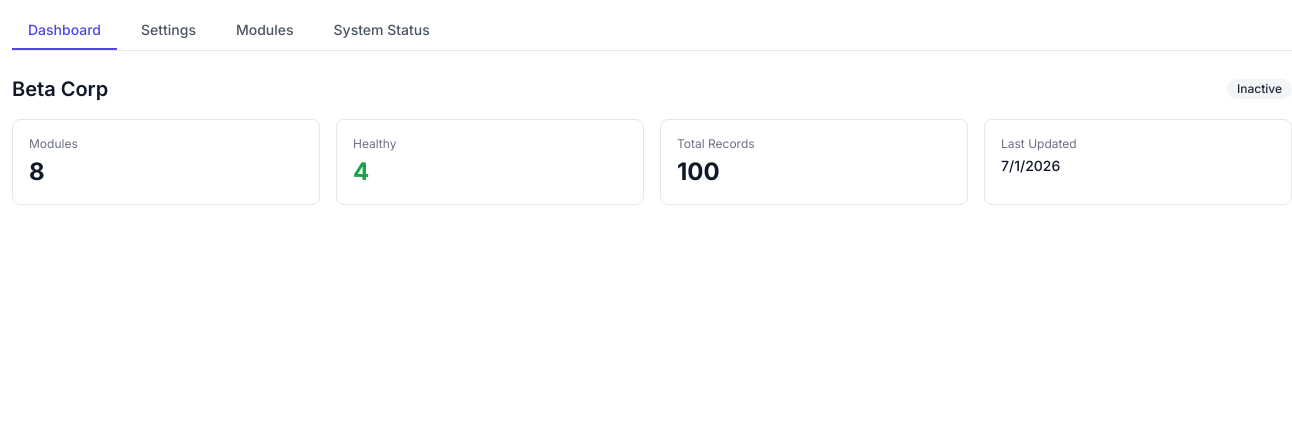
AdminCenter additional › modules tab shows module count heading
Click the button with test id "tab-modules": (265, 31) [220, 12, 310, 50]
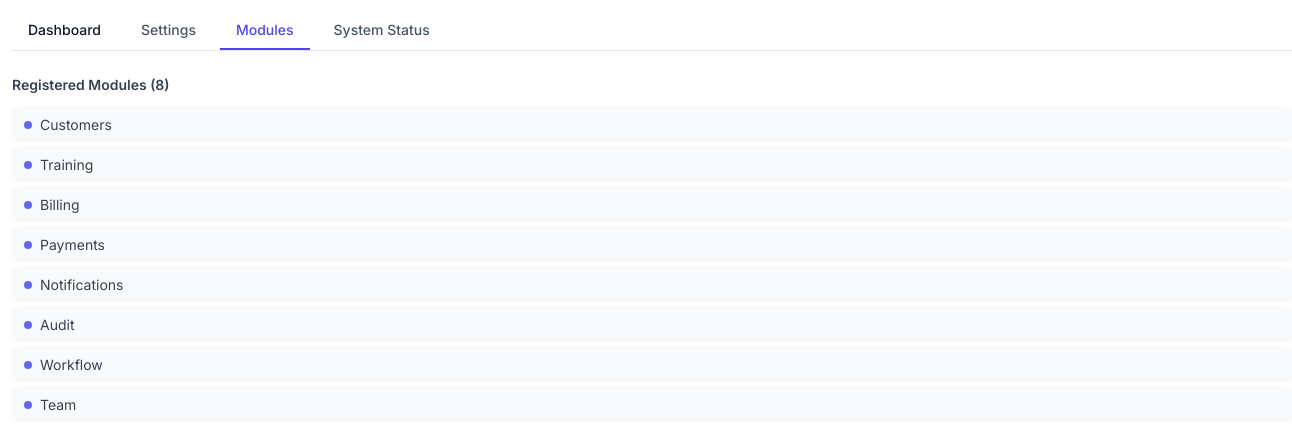
Expected: the element with test id "panel-modules" shows "Modules", [12, 76, 155, 93]
